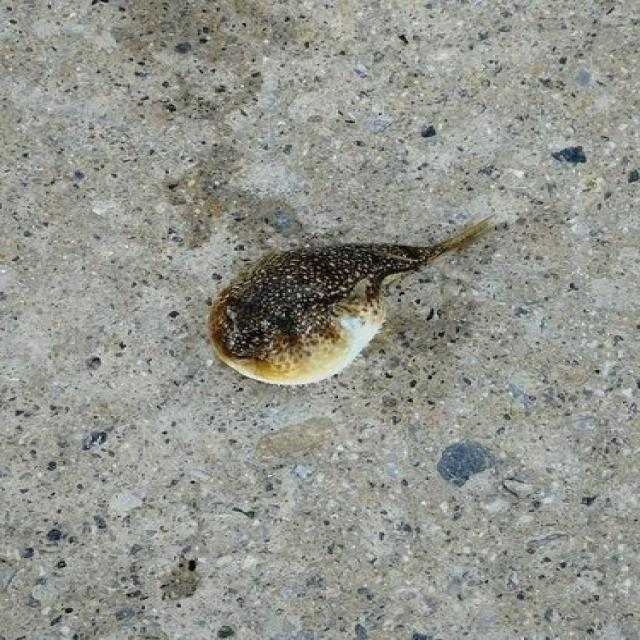Balik: (210, 219, 491, 385)
